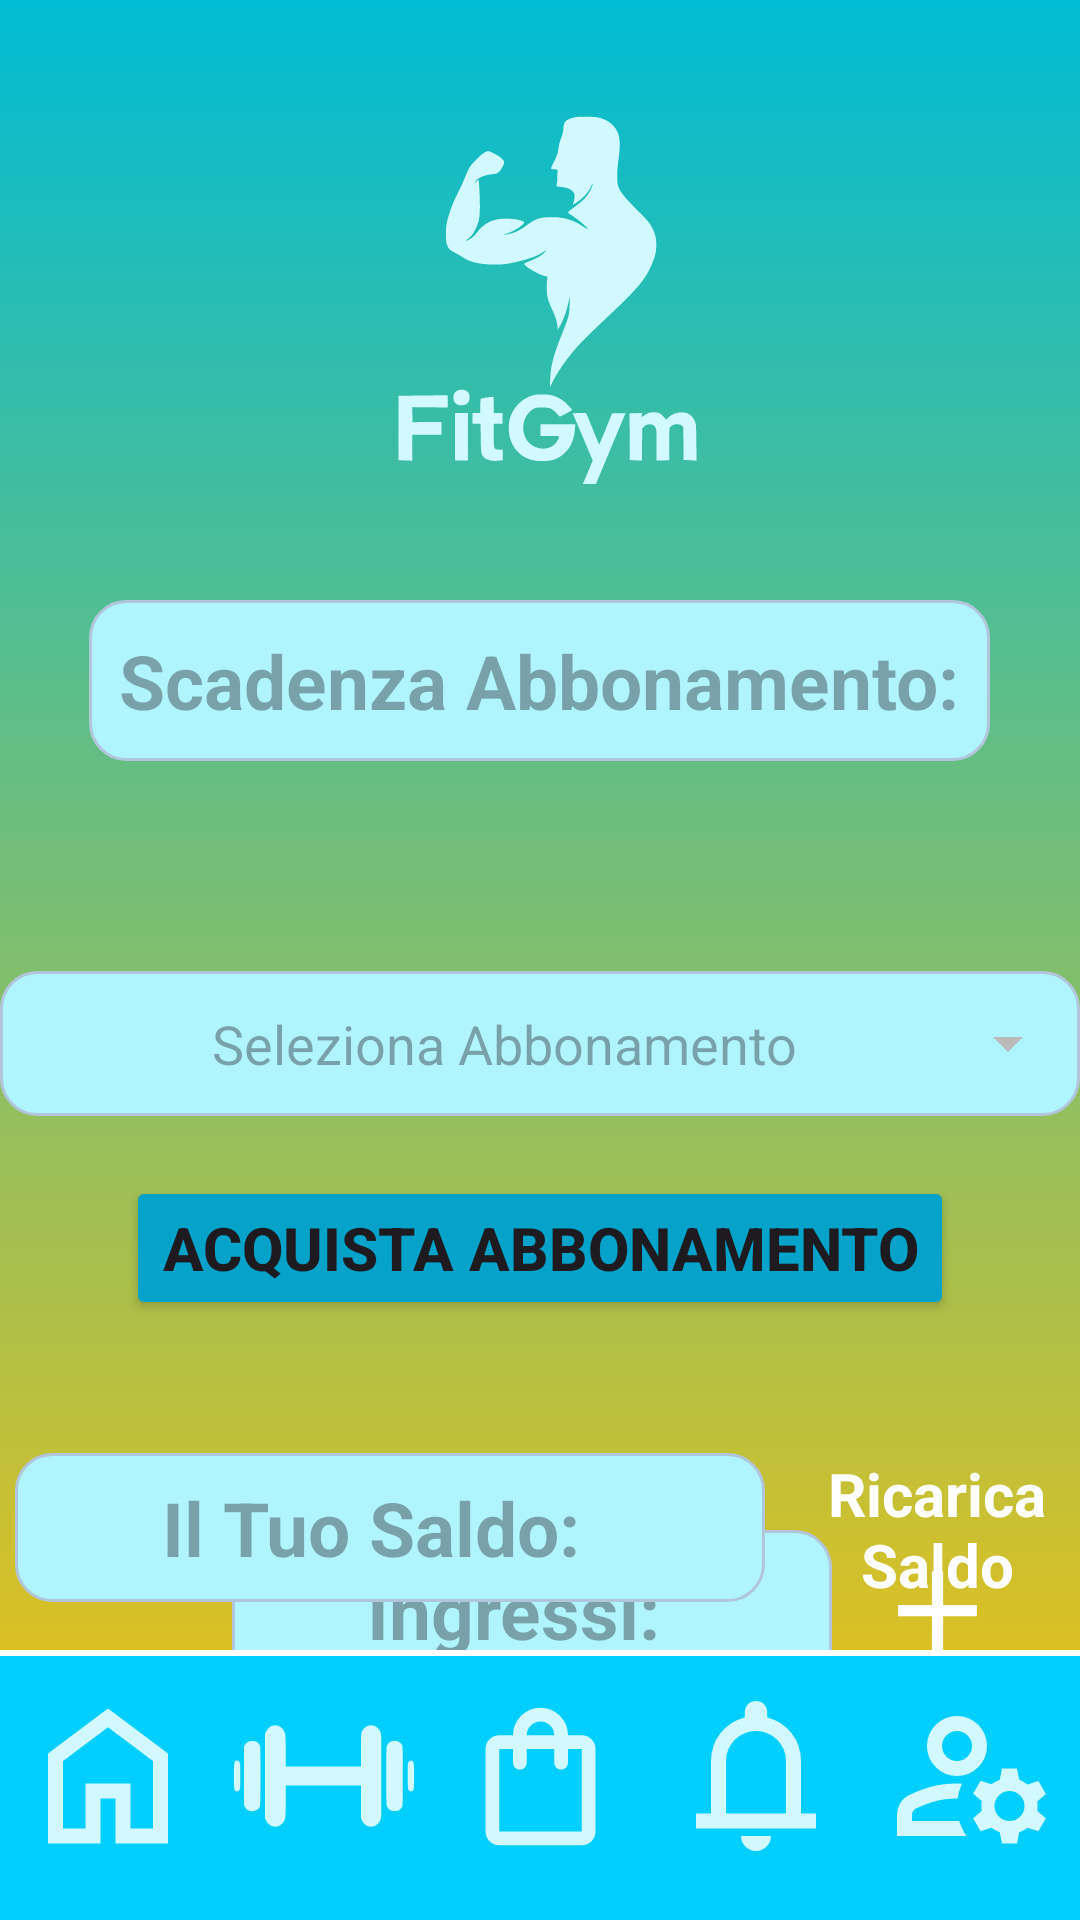

Screen size 1080w x 1920h. Icon name, then its center in pixels as [x,y]:
Home: [108,1776]
icona corsi: [324,1776]
icona negozio: [540,1776]
Notifiche: [756,1776]
Profilo: [971,1780]
